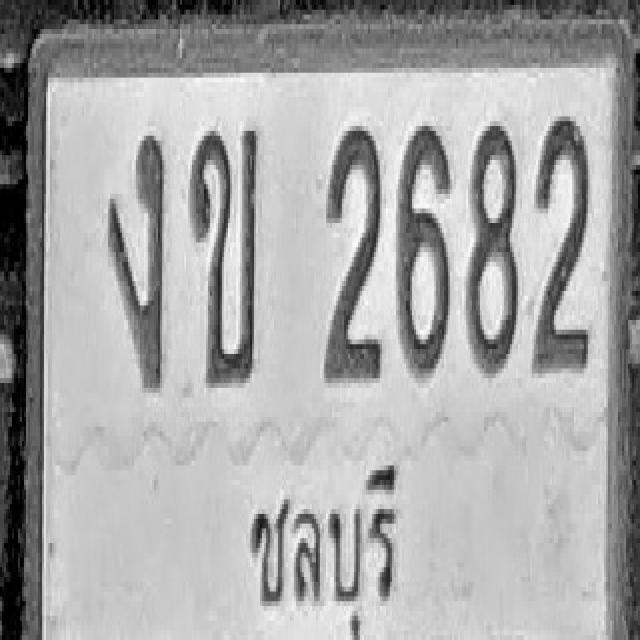11KhorKhai: (189, 124, 259, 386)
16NgorNgu: (107, 131, 165, 388)
2: (324, 124, 382, 380), (534, 114, 588, 371)
6: (398, 122, 450, 374)
8: (466, 122, 518, 374)
Chonburi: (240, 460, 398, 639)
